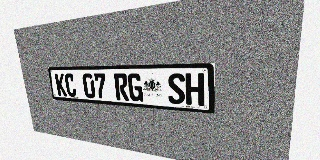0: (82, 73, 96, 98)
7: (93, 73, 108, 99)
C: (64, 73, 77, 97)
G: (127, 73, 143, 102)
H: (185, 73, 204, 106)
K: (54, 73, 67, 96)
R: (114, 73, 129, 101)
S: (167, 73, 185, 105)
